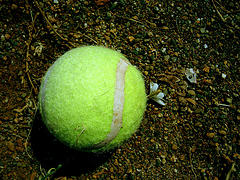tennis ball: (37, 45, 148, 155)
